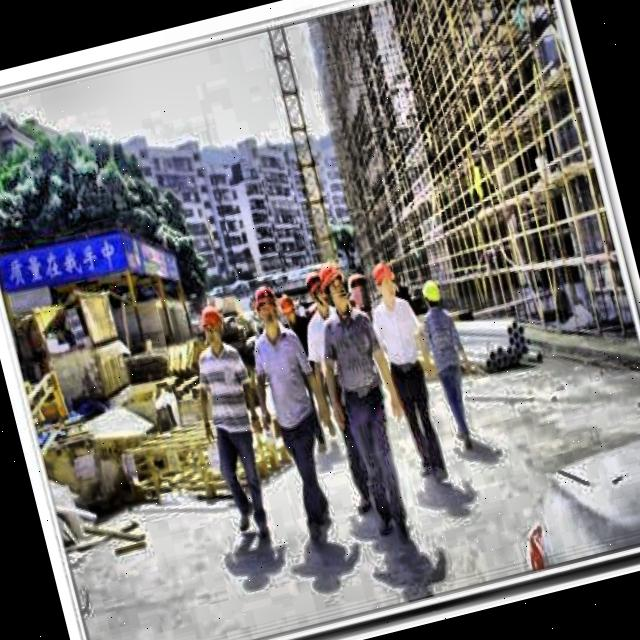helmet: (245, 277, 287, 338), (192, 298, 235, 354), (316, 256, 355, 314), (300, 266, 332, 322), (368, 254, 402, 304), (414, 272, 448, 317), (270, 284, 303, 325)
